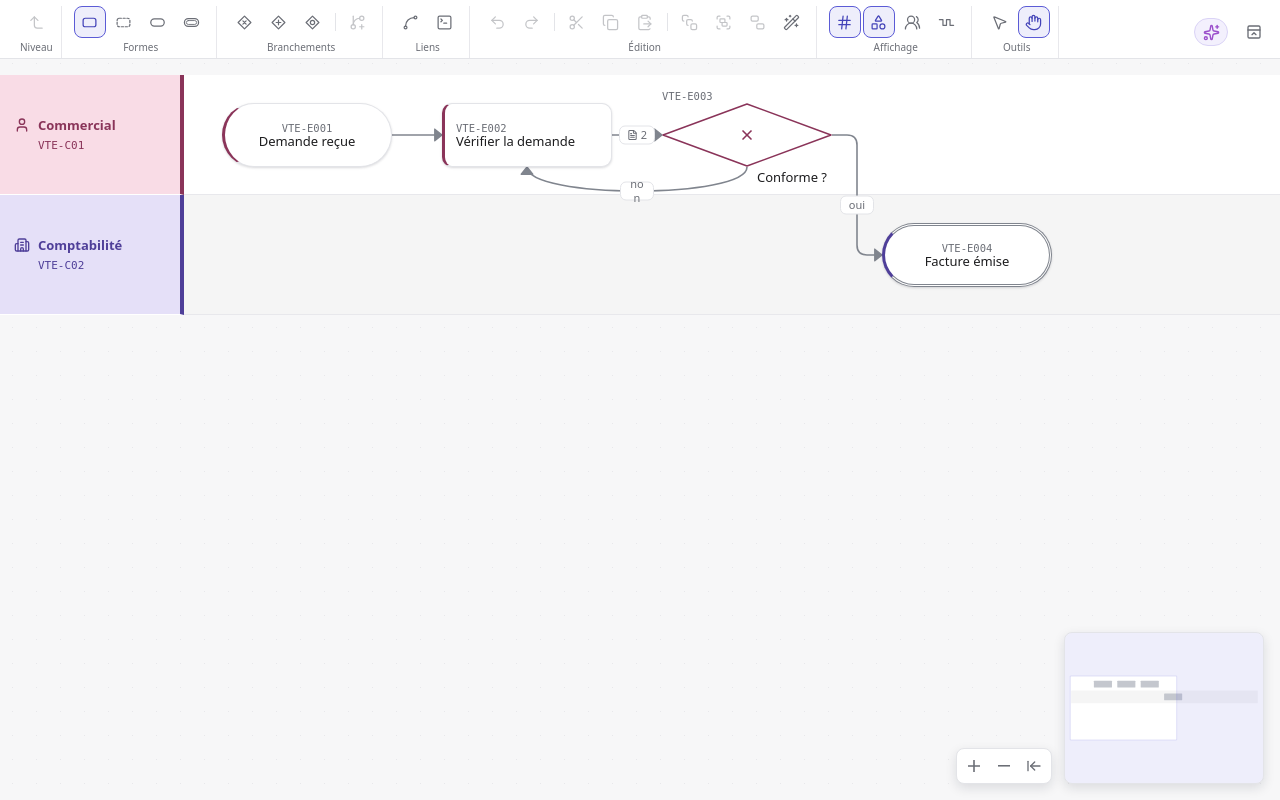
Test: the replies, the copy and paste and the other panels › shows the findings with their kind and suggestion, the questions with their choices, a failure with its retry
The width and height of the screenshot is (1280, 800).
Click the button with test id "ribbon-assistant".
click(1211, 32)  # box [1194, 18, 1228, 46]
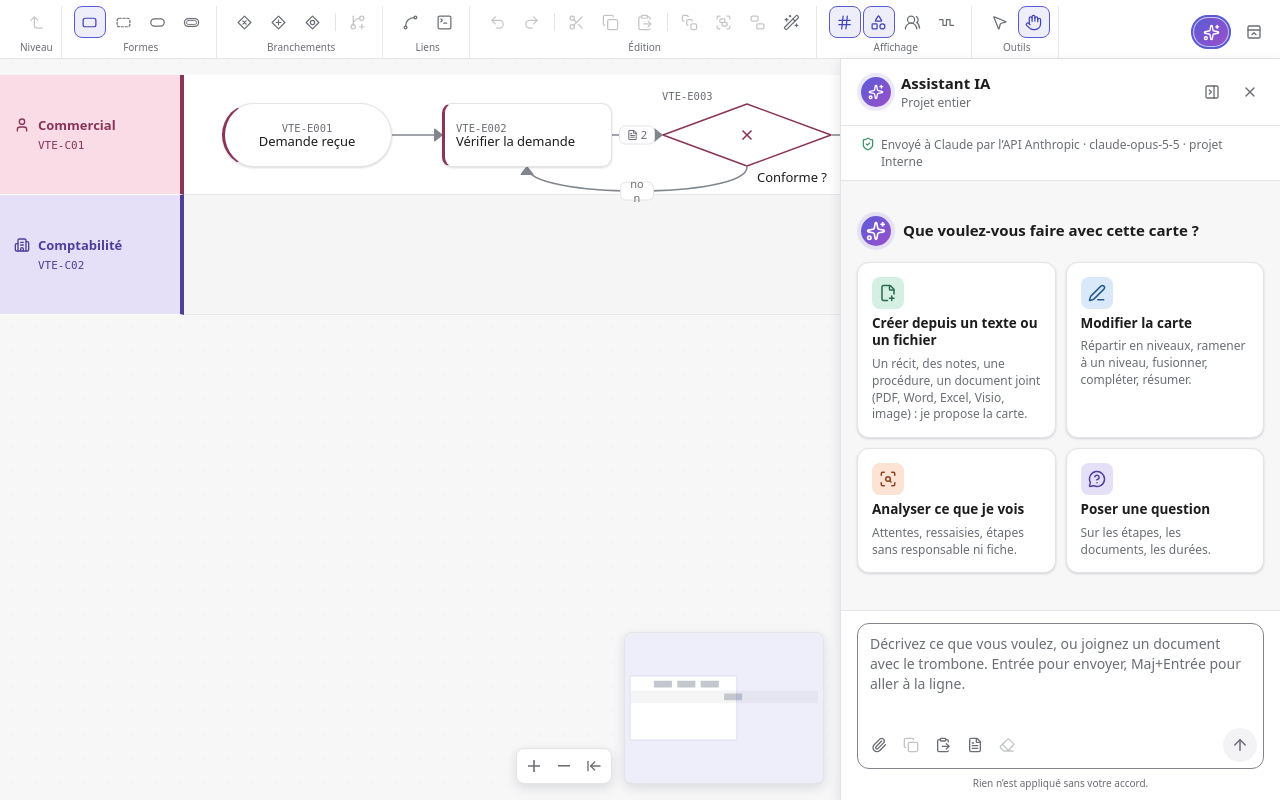
Expected: the element with test id "assistant-tiles" that starts with "Que voulez-vous faire avec cette carte ?" is shown, [857, 216, 1264, 573]
Type "Analyse." into the text box with test id "assistant-field".
click(1060, 674); type("Analyse.")  # box [858, 624, 1263, 724]
Then press Enter
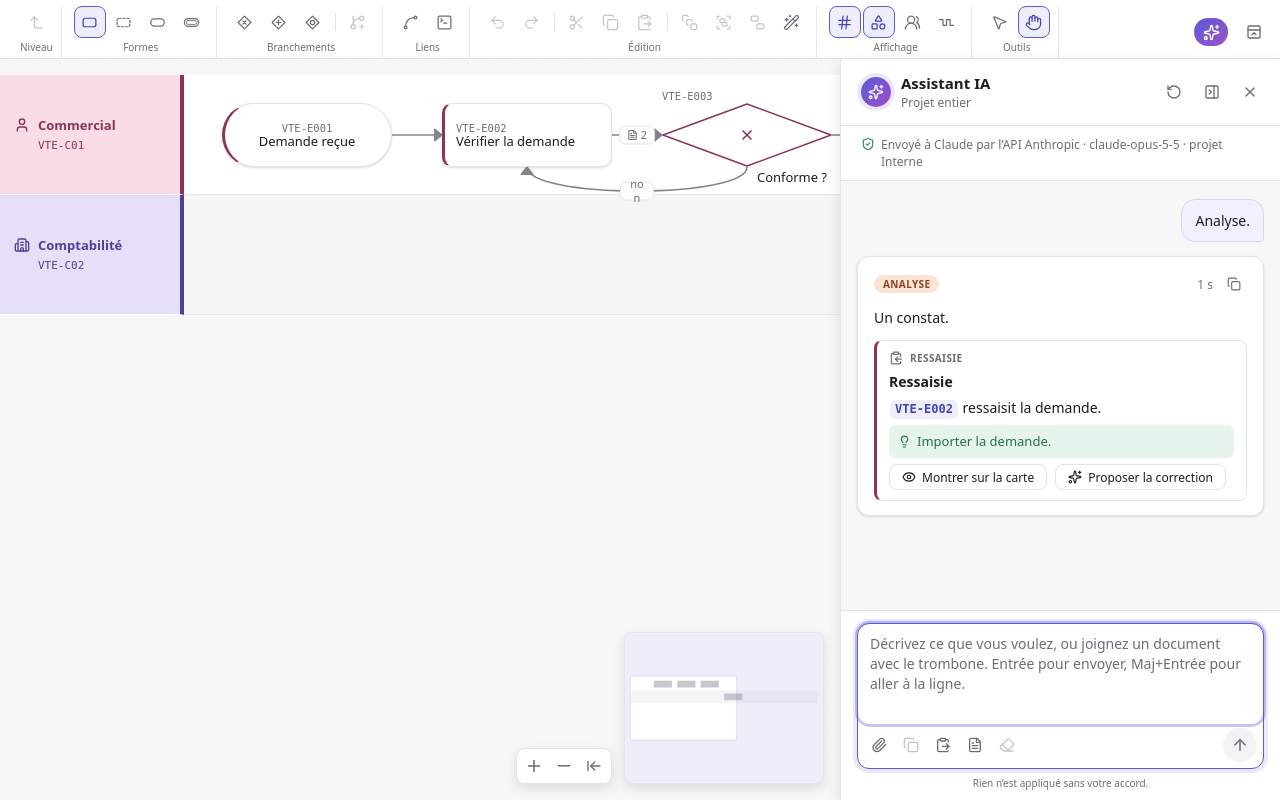
Expected: the list item with test id "assistant-finding" shows "Ressaisie", [910, 351, 963, 365]
Expected: the list item with test id "assistant-finding" shows "Importer la demande.", [917, 432, 1051, 450]
Click the button with test id "assistant-show-finding".
click(968, 477)  # box [889, 464, 1047, 490]
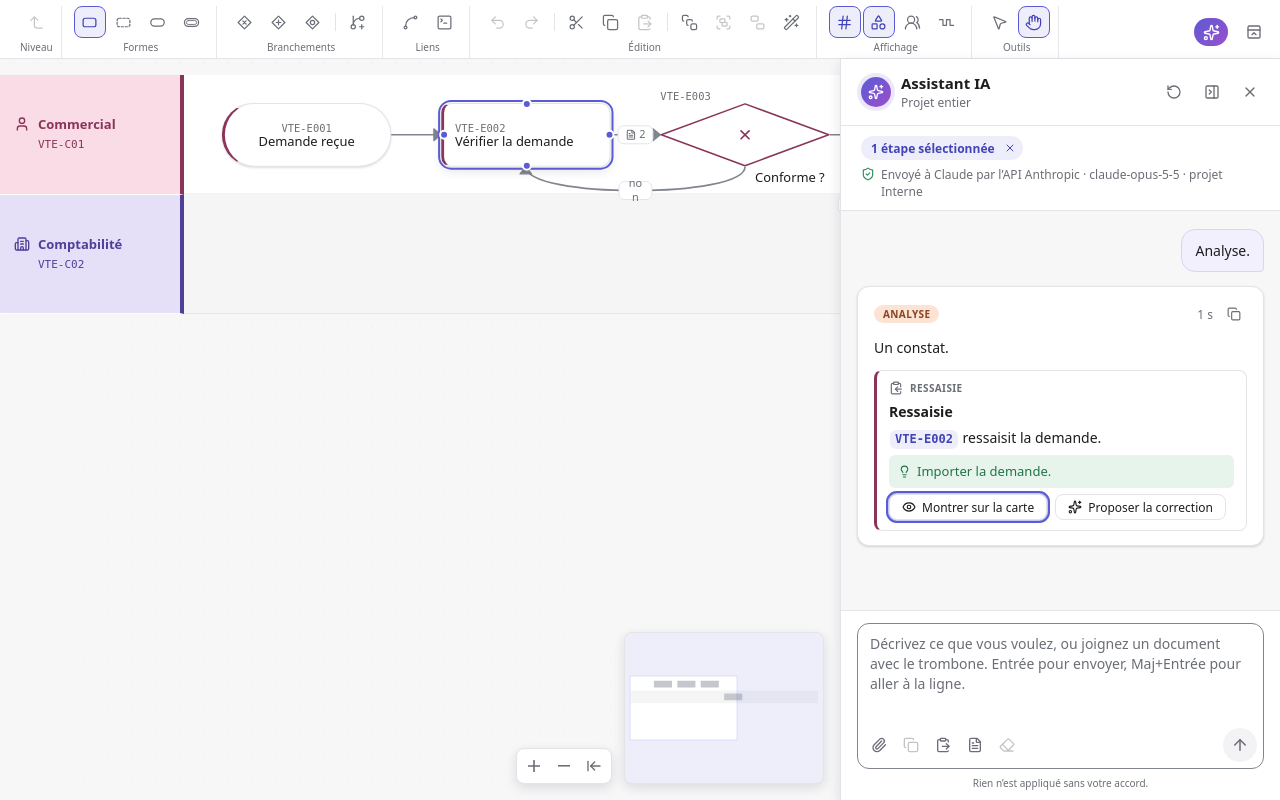
Type "Crée." into the text box with test id "assistant-field".
click(1060, 674); type("Crée.")  # box [858, 624, 1263, 724]
Then press Enter
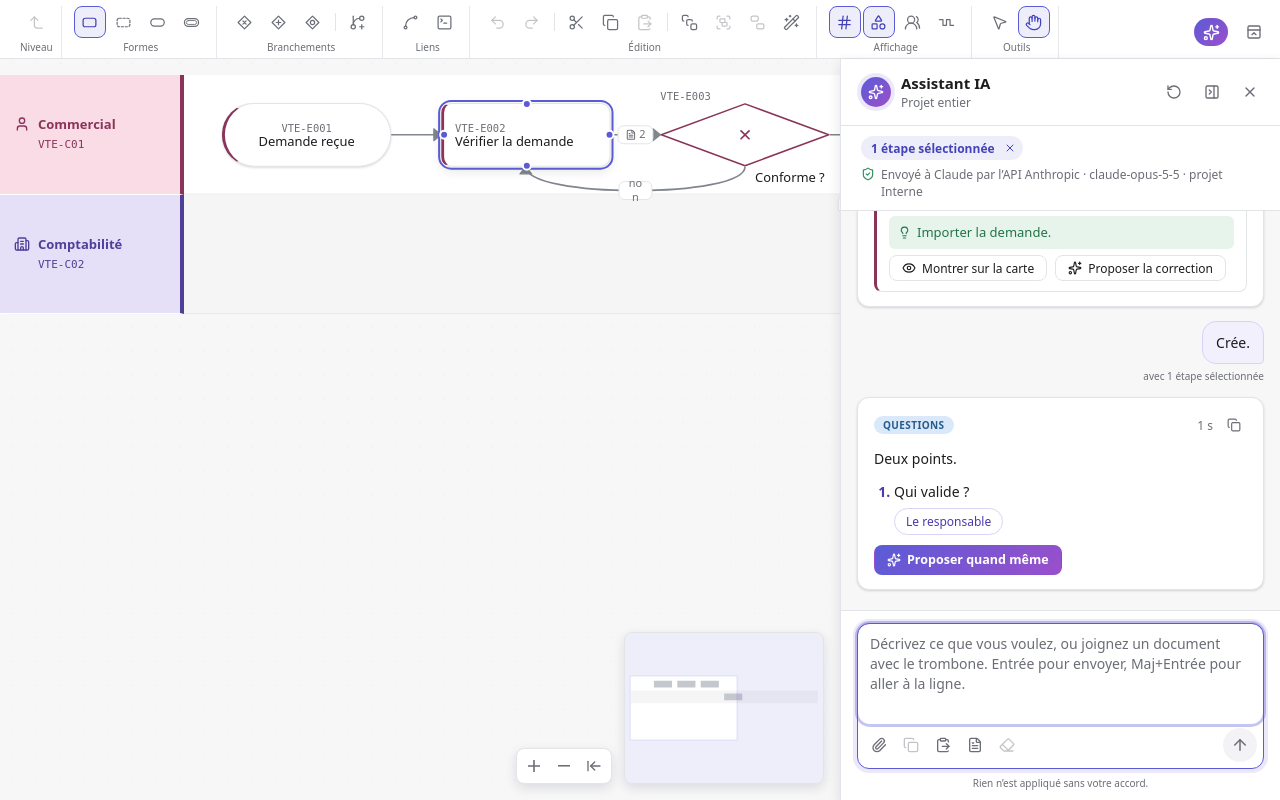
Click the button with test id "assistant-choice".
click(949, 521)  # box [894, 508, 1003, 535]
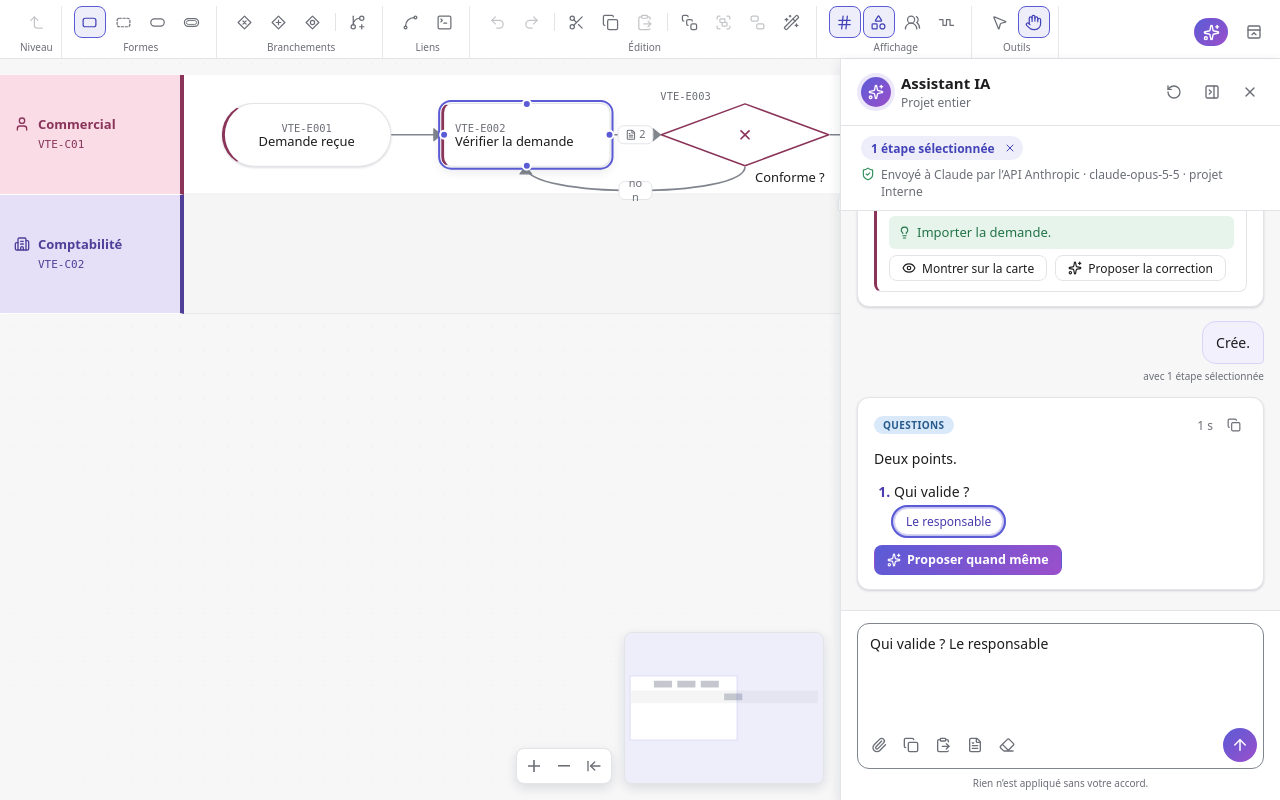
Click the button with test id "assistant-send".
click(1240, 745)  # box [1223, 728, 1257, 762]
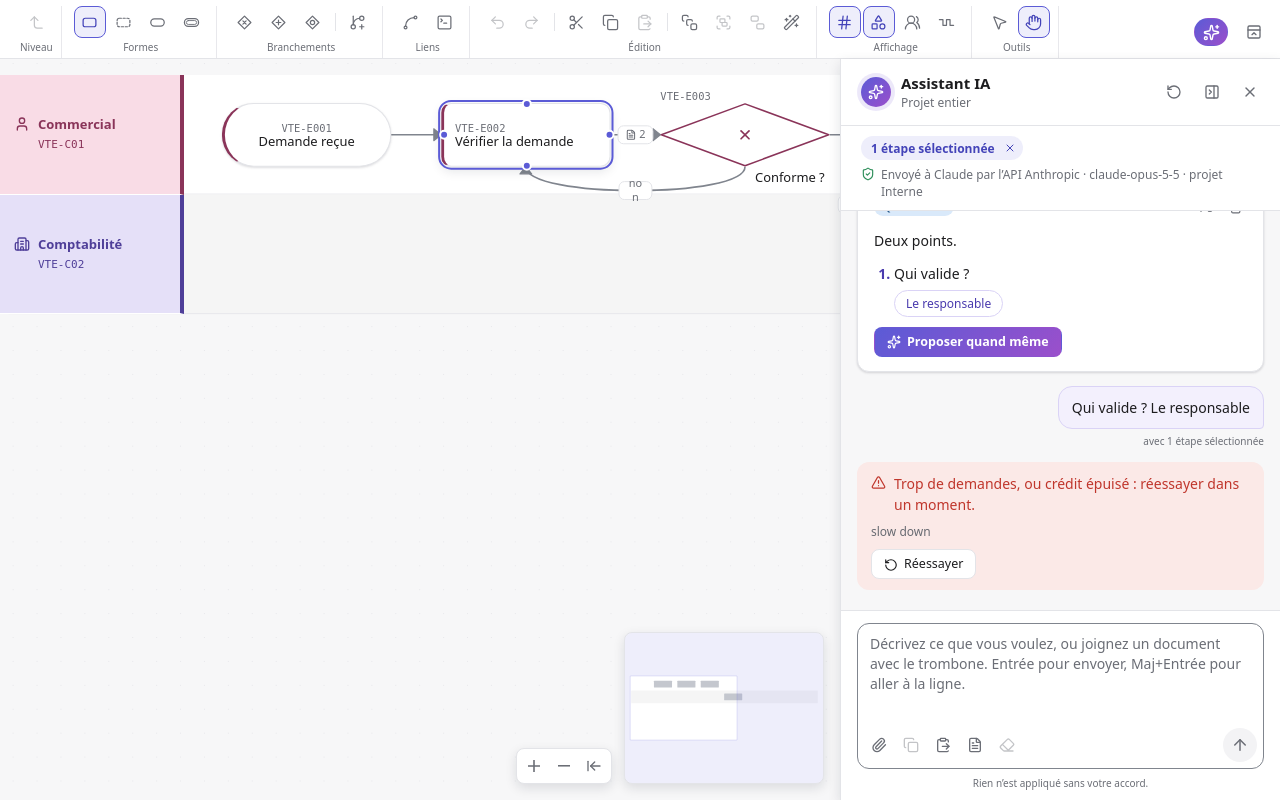
Expected: the message with test id "assistant-failure" shows "Trop de demandes, ou crédit épuisé", [894, 474, 1239, 514]
Expected: the message with test id "assistant-failure" shows "slow down", [871, 523, 931, 540]
